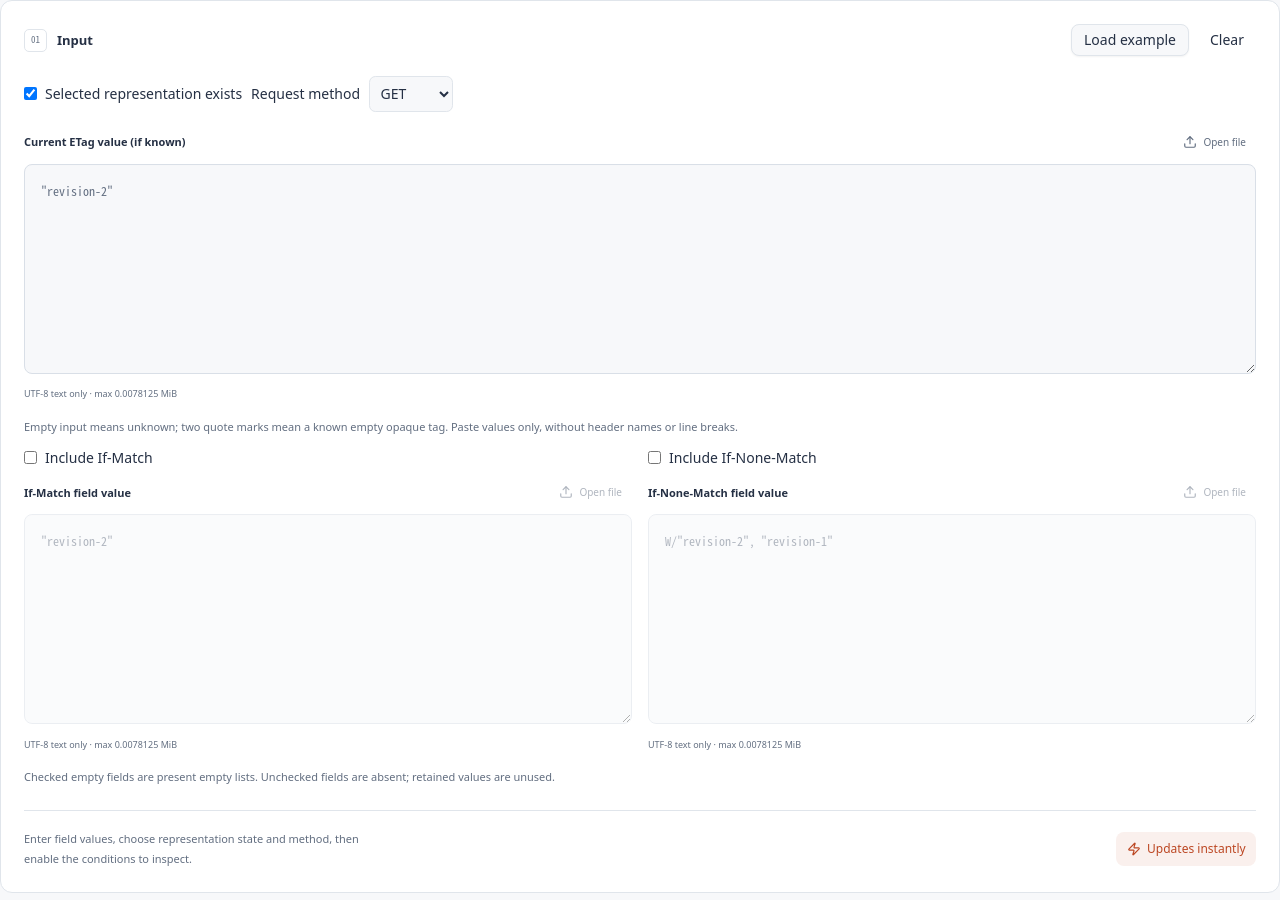
ETag Vapor workflow › distinguishes enabled empty fields, absent headers and missing current data
Click the checkbox with test id "etag-enable-match": (30, 458) [24,451,37,464]
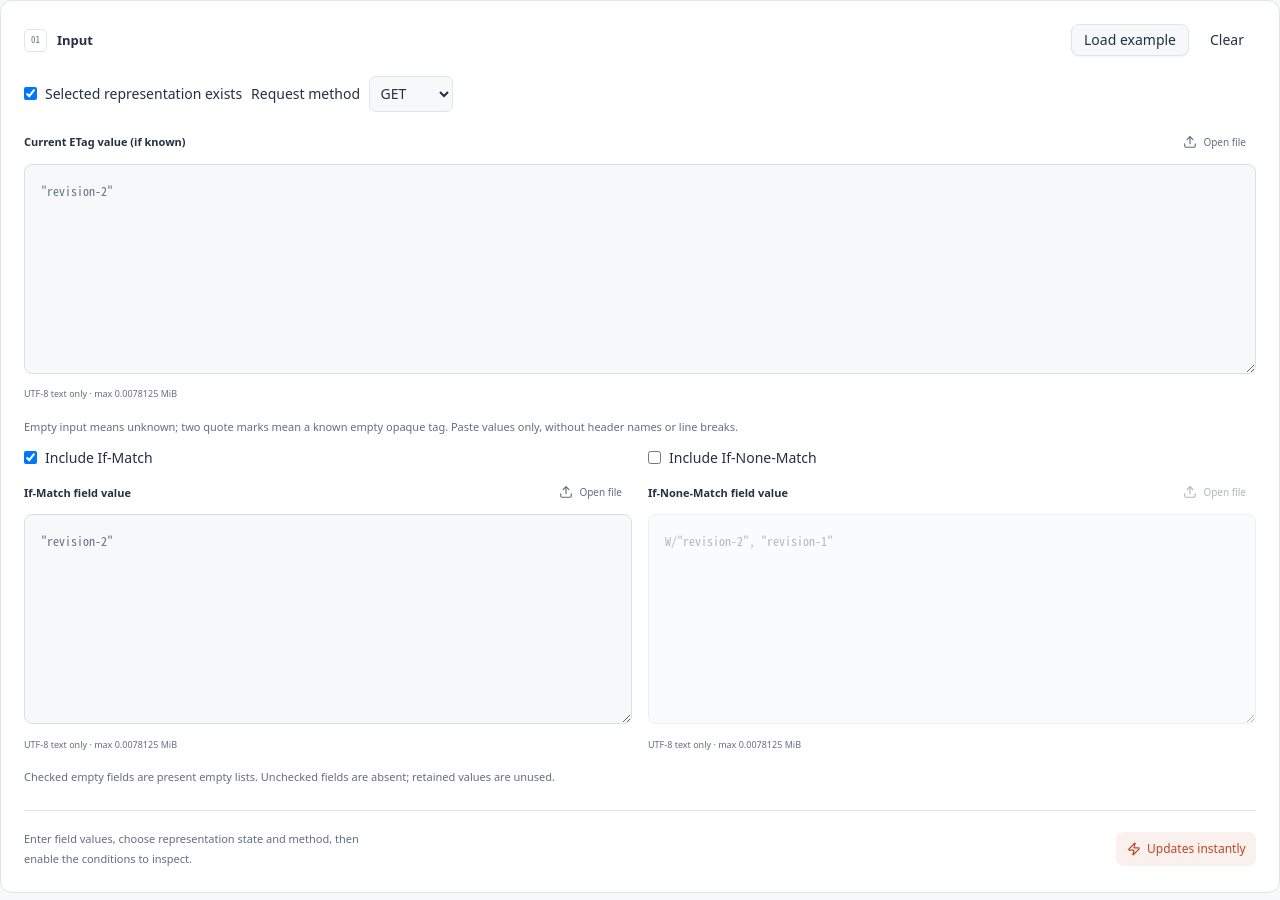
Click the checkbox with test id "etag-enable-match": (30, 458) [24,451,37,464]
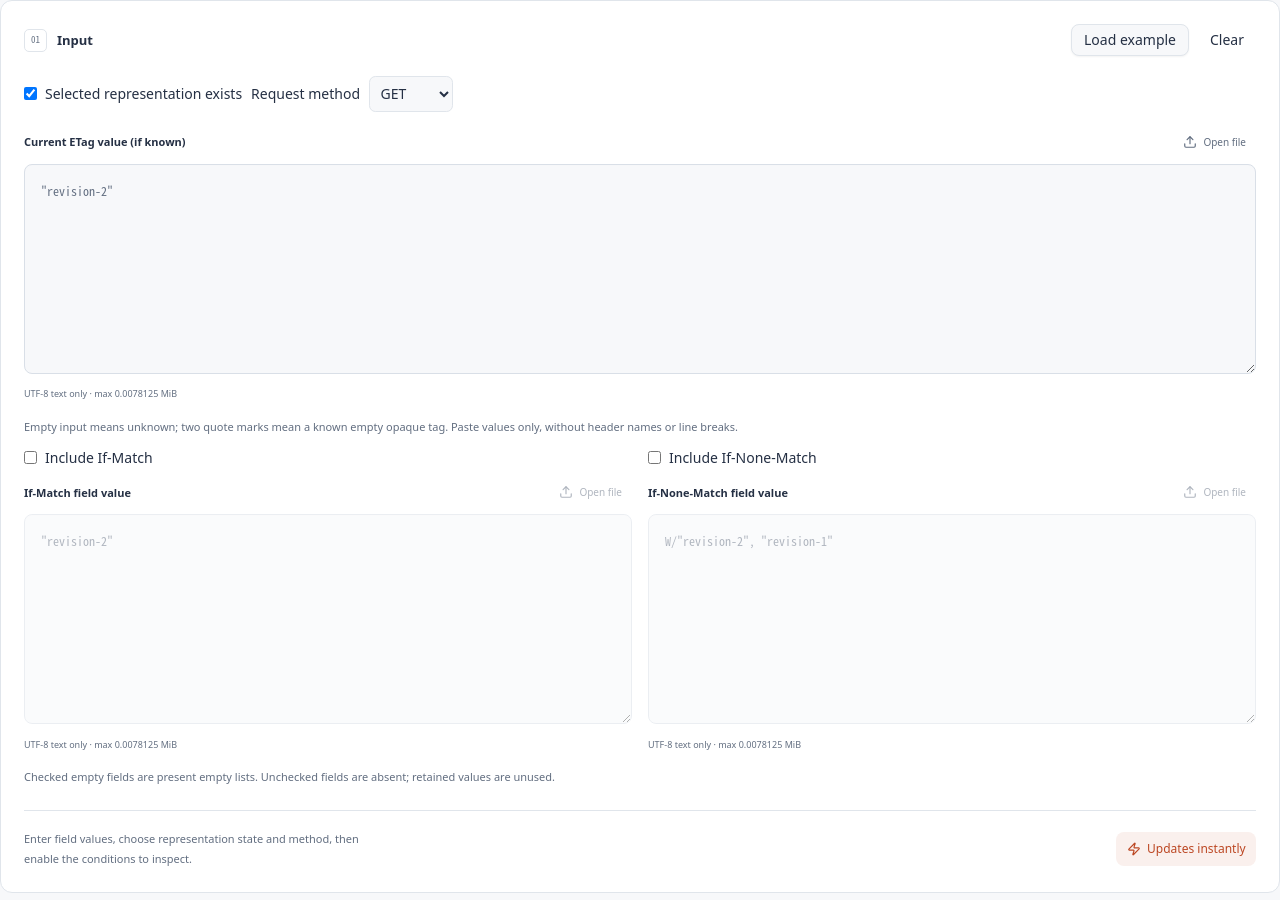
Click the checkbox with test id "etag-enable-none": (654, 458) [648,451,661,464]
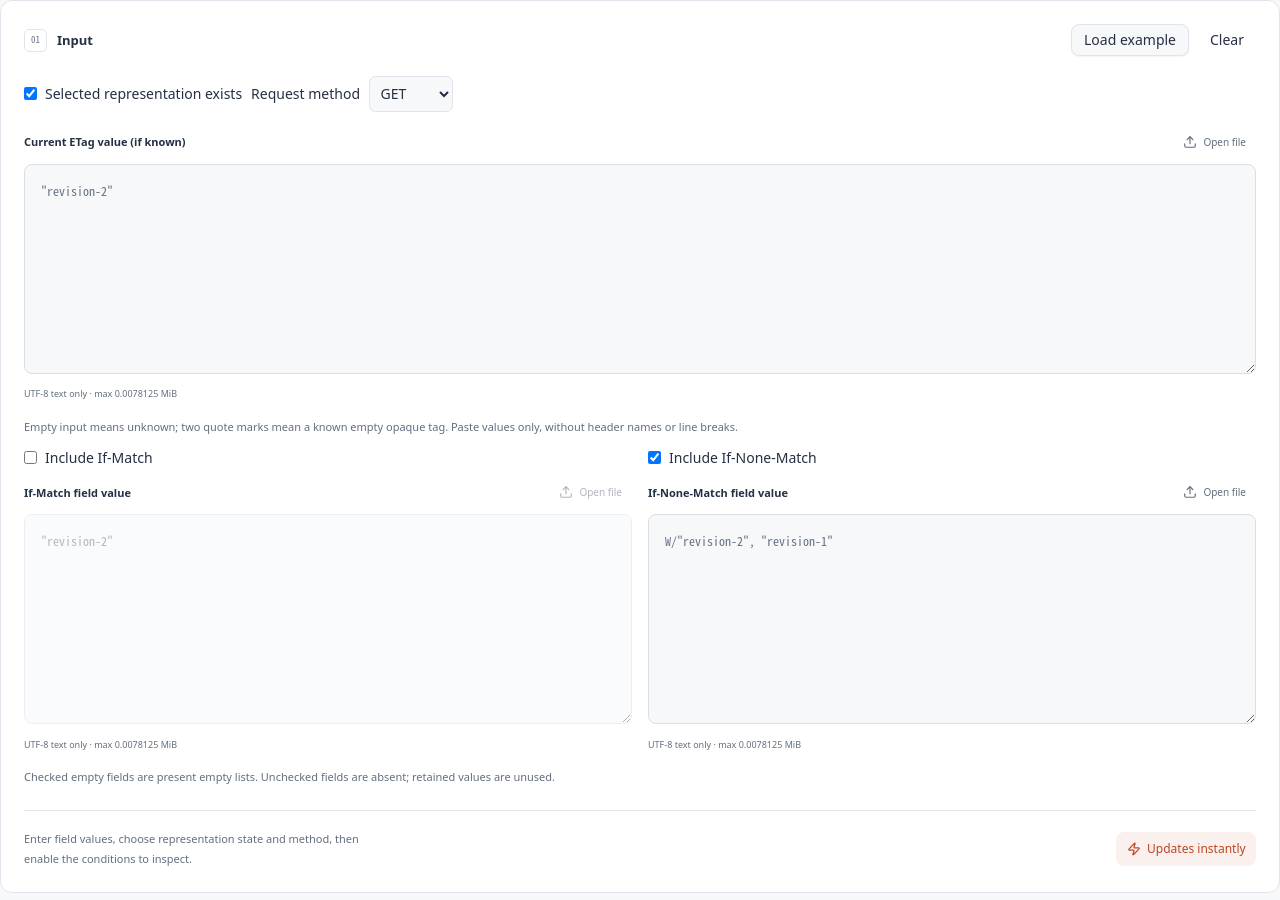
In the text box with id "etag-if-none-match": (952, 620) [648,514,1256,724], type "\"v2\""
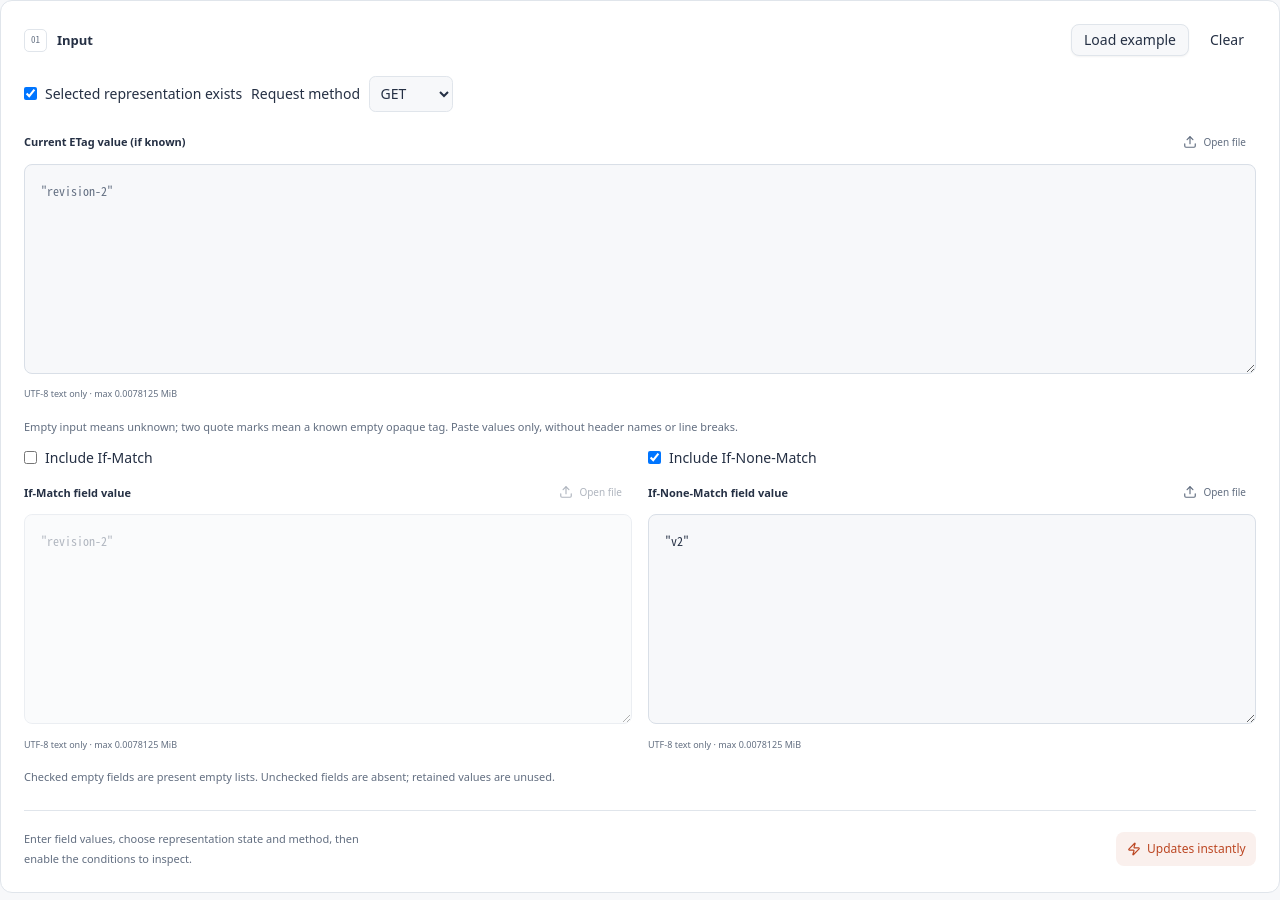
Click the checkbox with test id "etag-exists": (30, 94) [24,87,37,100]
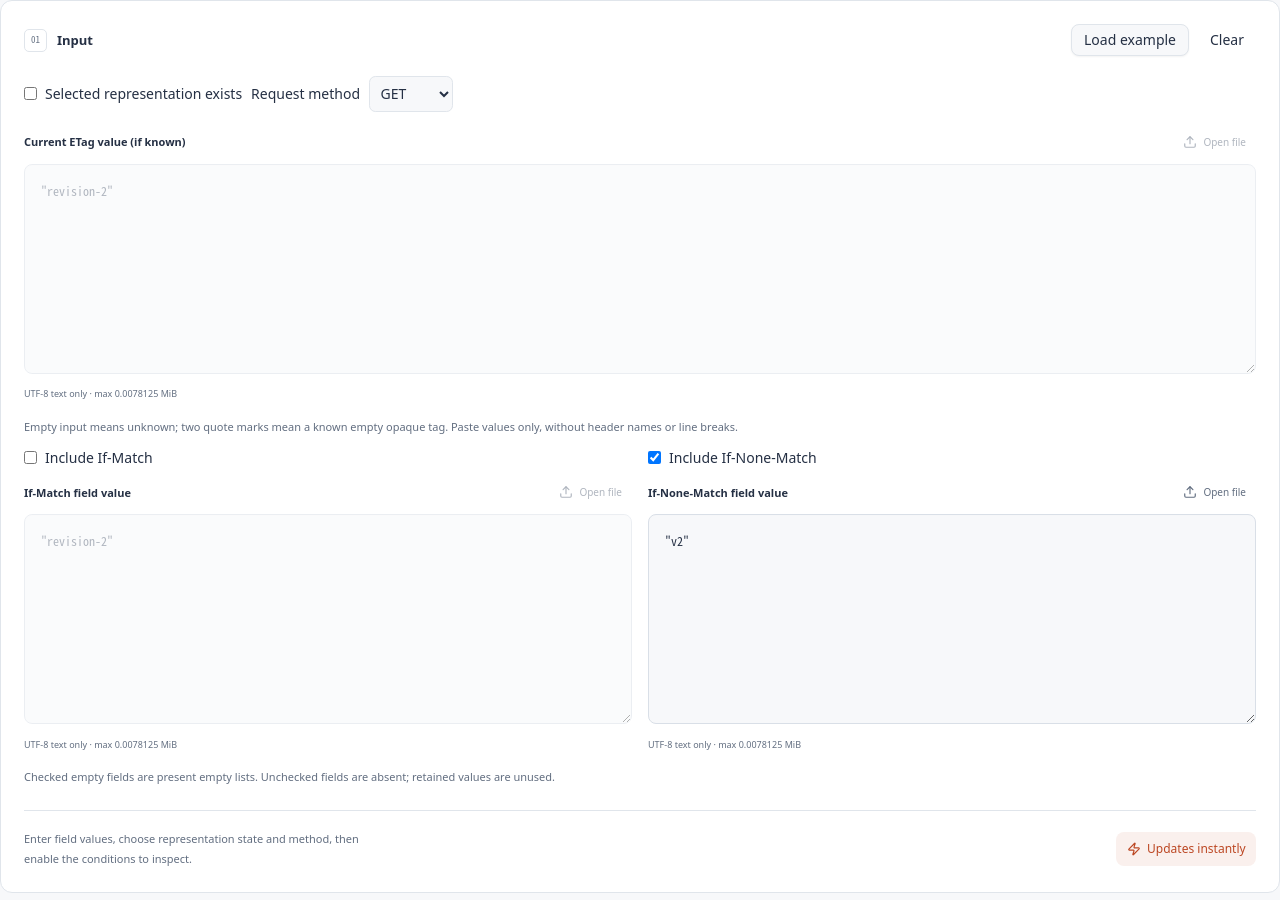
Check: the text box with id "etag-current" is disabled, box [24,164,1256,374]
